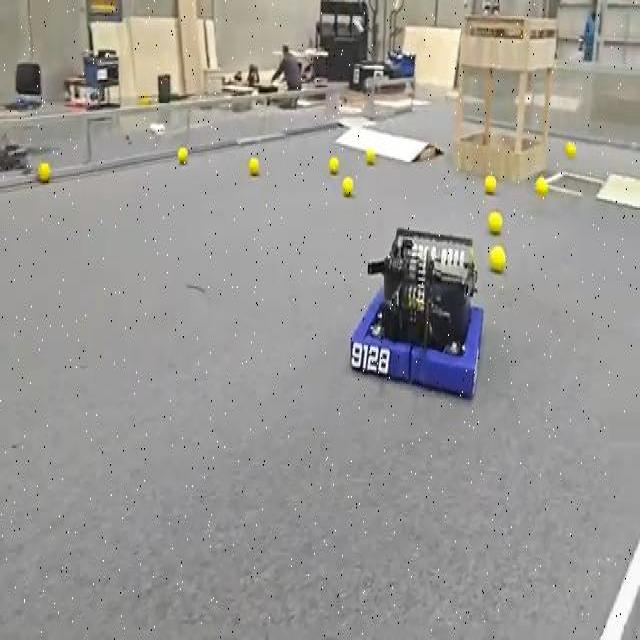Fuel: (489, 245, 506, 272), (489, 245, 505, 272), (487, 210, 503, 234), (38, 161, 50, 183), (535, 176, 548, 196), (37, 162, 50, 181), (484, 174, 496, 194), (536, 176, 548, 196), (248, 157, 260, 176), (484, 175, 496, 194), (328, 156, 339, 176), (248, 156, 259, 176), (342, 176, 353, 196), (177, 146, 188, 165), (342, 177, 353, 196), (565, 141, 576, 158), (329, 156, 339, 174), (565, 142, 576, 158), (178, 147, 188, 164), (366, 149, 375, 165), (365, 150, 375, 164)
